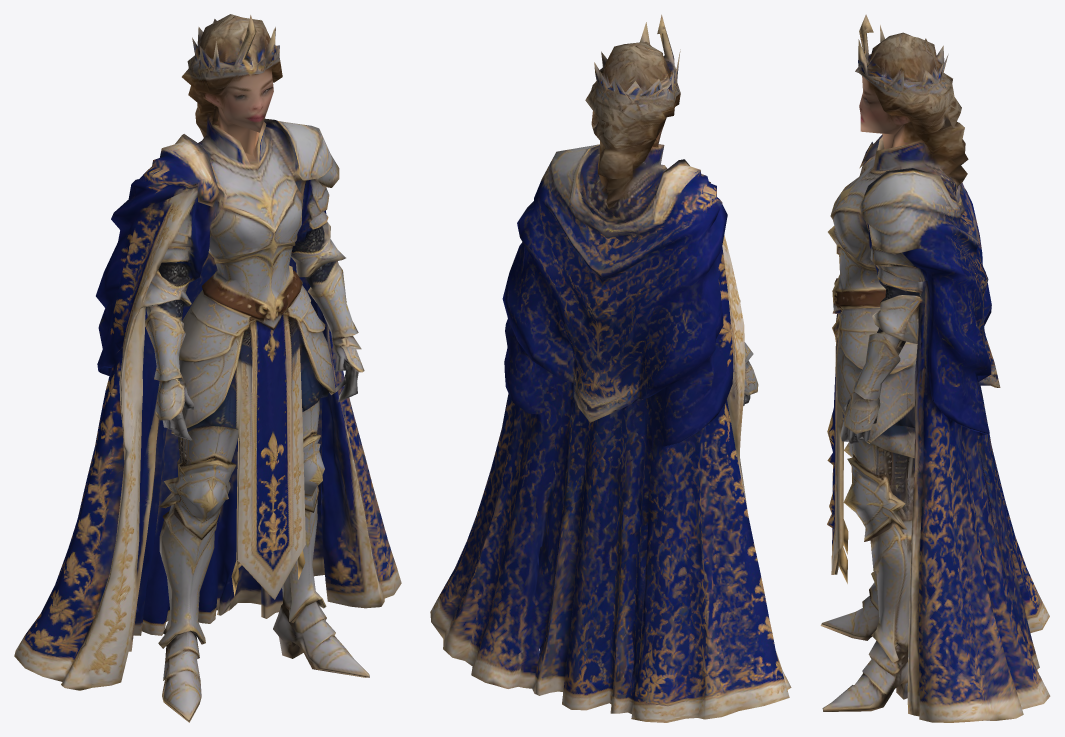
The model's file is original.glb.
3 views of the same model, side by side, from view 1: azimuth 30°, elevation 25°; view 2: azimuth 150°, elevation 25°; view 3: azimuth 270°, elevation 25° (orthographic). The views are drawn at different scales.
Parts seen in each view (by area): view 1: tripo_node_2d5e8ef0-95b2-43af-9d5e-7e74de2435b6; view 2: tripo_node_2d5e8ef0-95b2-43af-9d5e-7e74de2435b6; view 3: tripo_node_2d5e8ef0-95b2-43af-9d5e-7e74de2435b6.
Part boxes in pixels (x1=…): tripo_node_2d5e8ef0-95b2-43af-9d5e-7e74de2435b6: x1=14, y1=14, x2=401, y2=722; tripo_node_2d5e8ef0-95b2-43af-9d5e-7e74de2435b6: x1=430, y1=14, x2=791, y2=722; tripo_node_2d5e8ef0-95b2-43af-9d5e-7e74de2435b6: x1=820, y1=14, x2=1050, y2=722.
Size of the model in its own units: 0.5793 by 0.9997 by 0.3196.
Materials: 1 (1 with a texture image).
